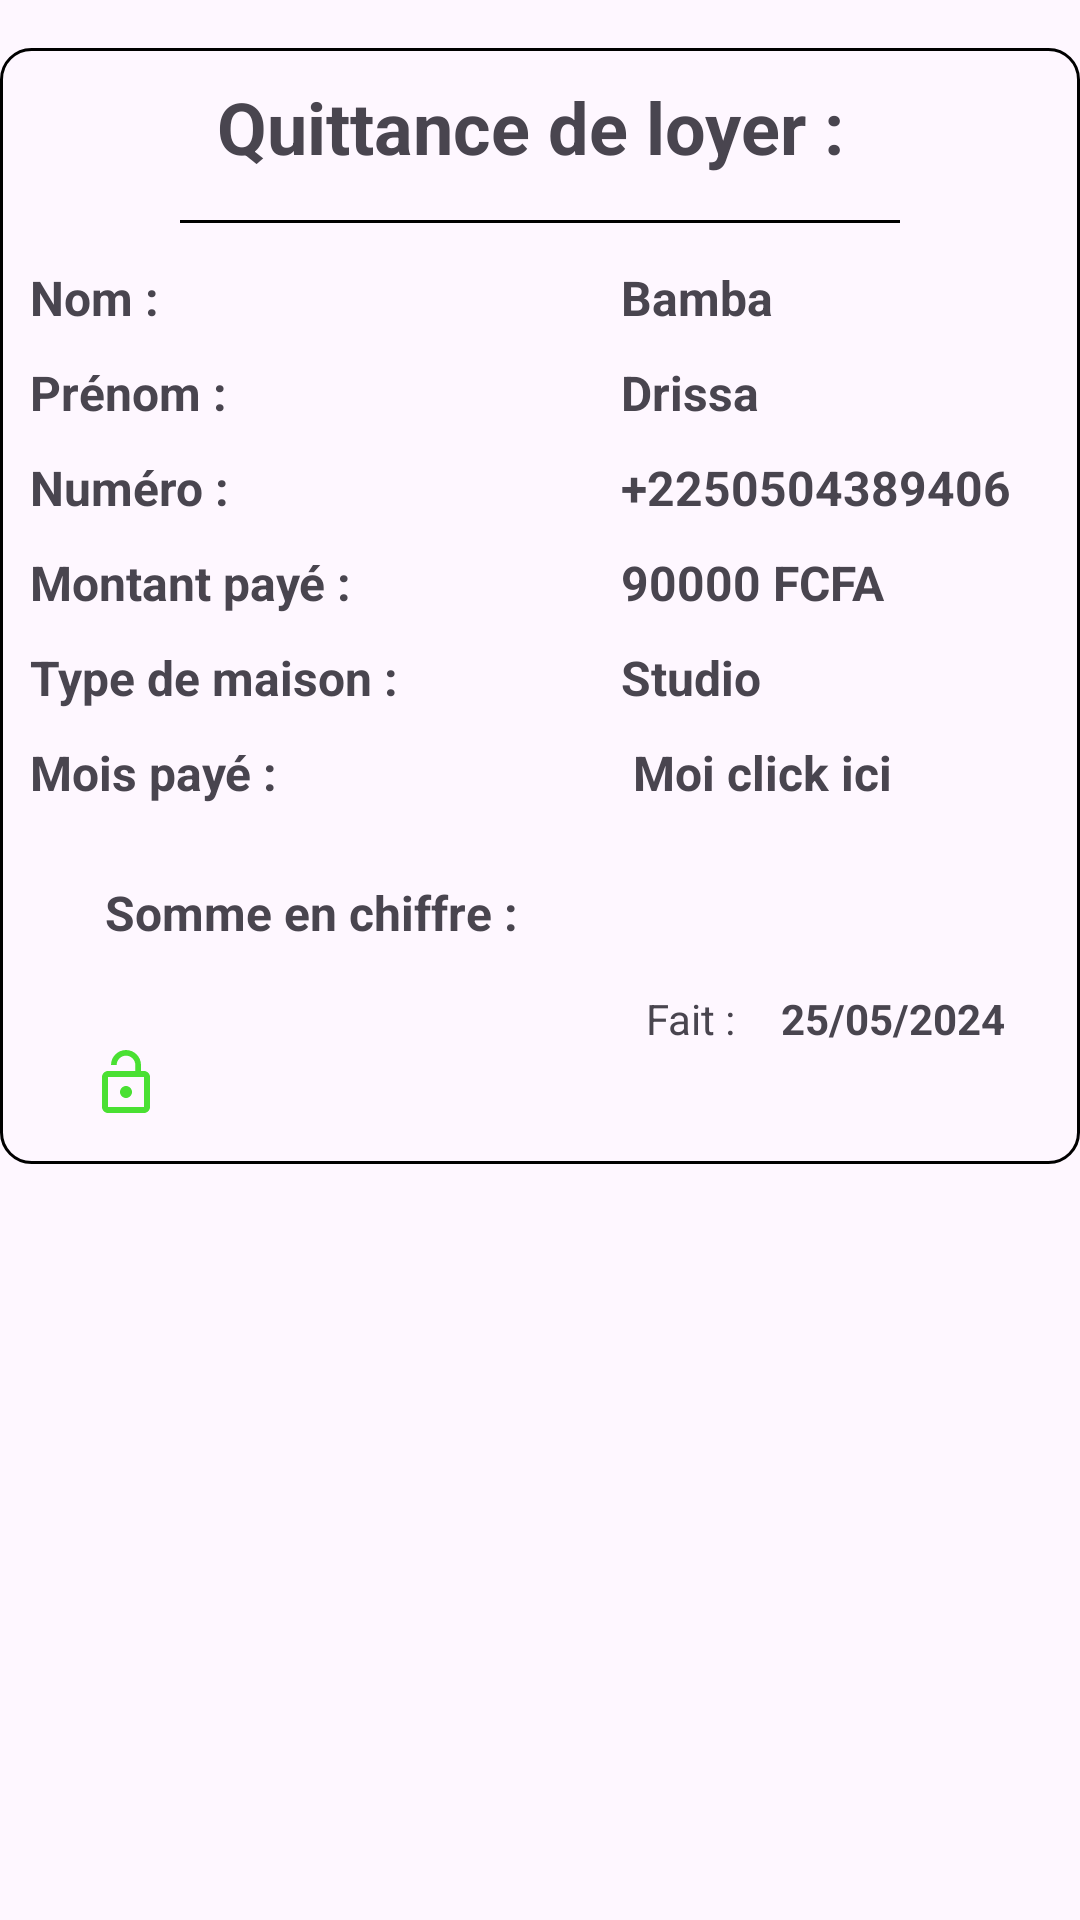

Where to tap for icons on this 1080*1920 app screen, as (x,y):
open: (126,1081)
